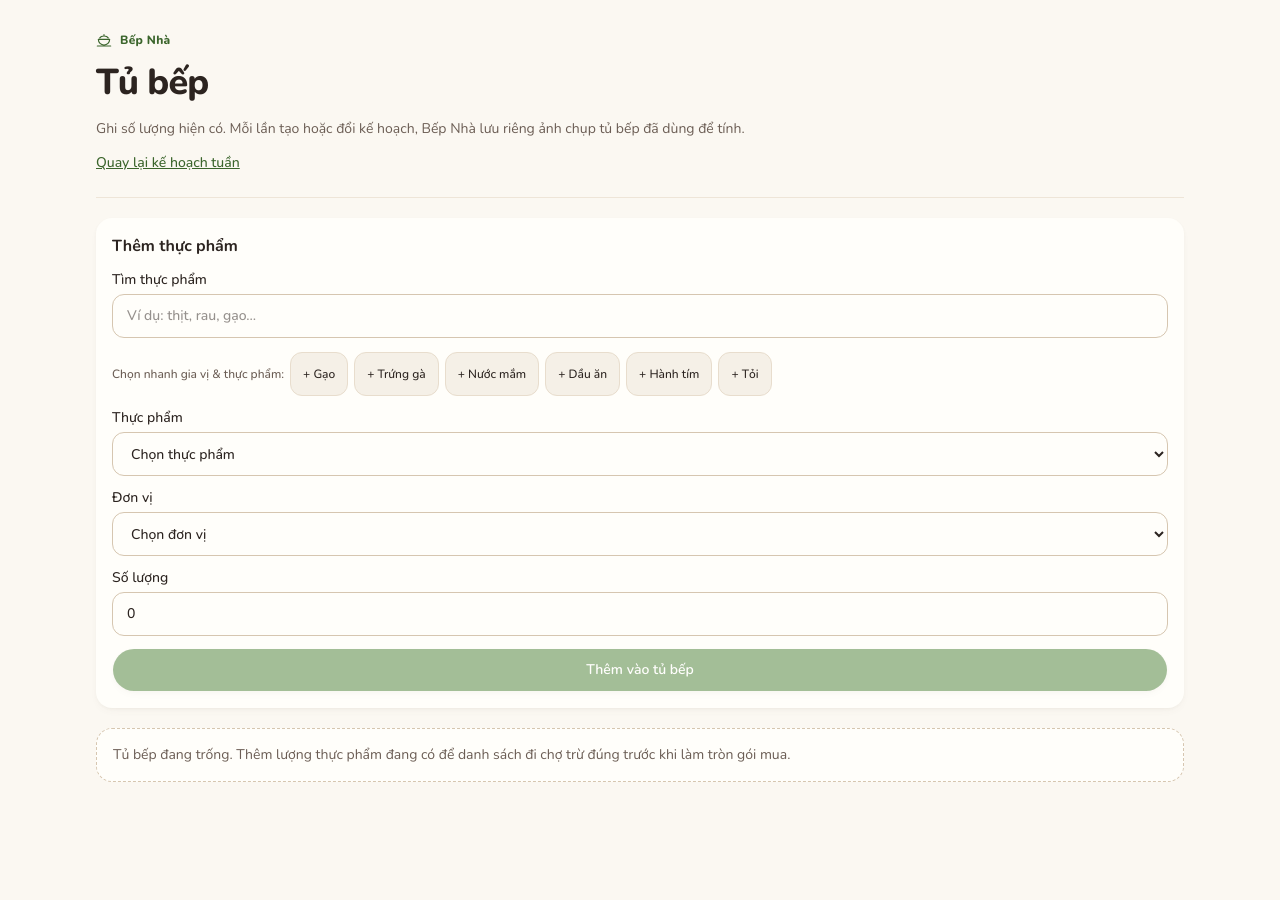
Test: PantryPage › populates the form when a quick preset button is clicked
Expected: the heading "Tủ bếp" is shown, left=96, top=58, right=208, bottom=107
Click the button "+ Gạo". click: [319, 374]
box: left=290, top=352, right=348, bottom=396
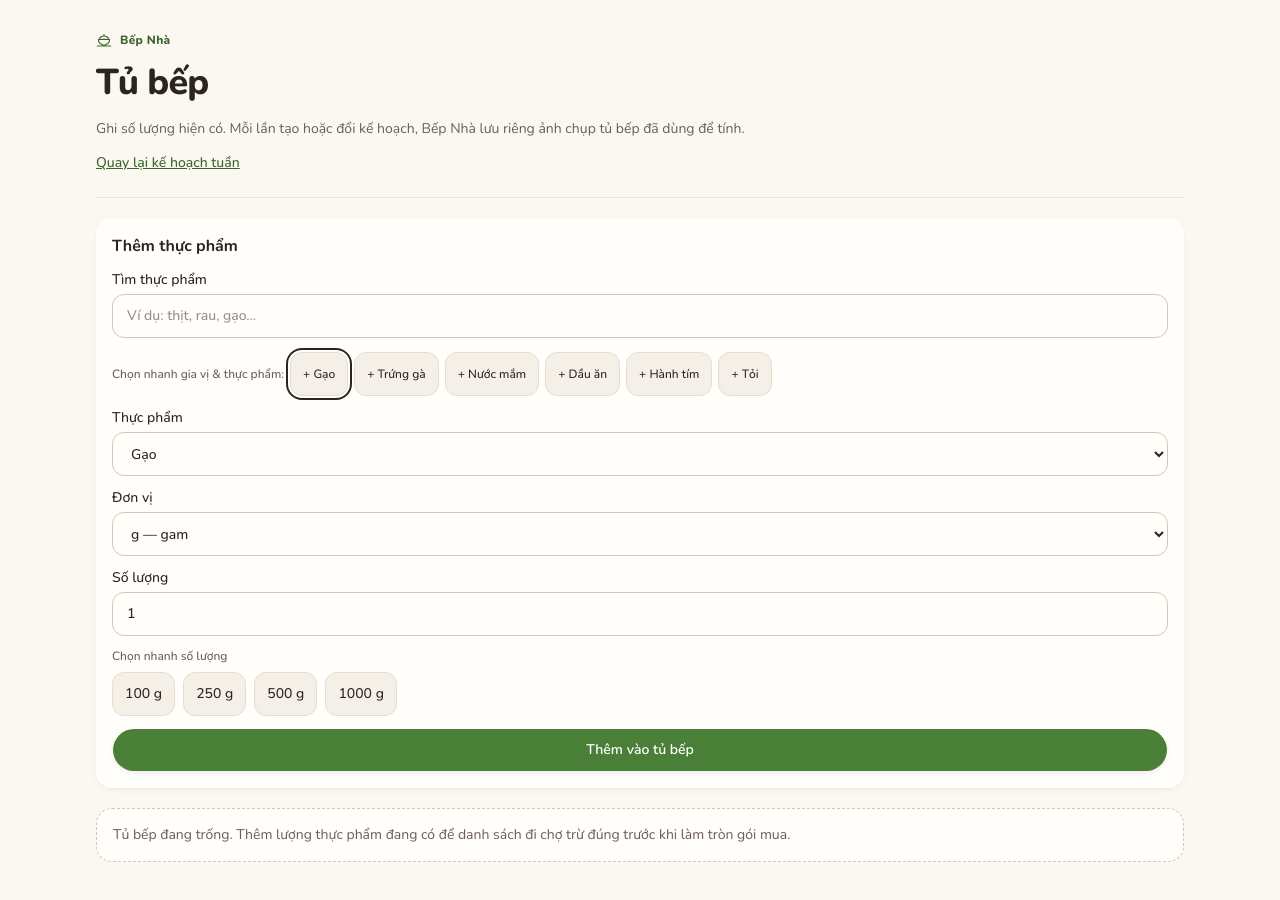
Result: the dropdown labelled "Thực phẩm" shows "Gạo" at left=112, top=432, right=1168, bottom=476
Result: the dropdown labelled "Đơn vị" shows "g — gam" at left=112, top=512, right=1168, bottom=556
Result: the number field labelled "Số lượng" holds "1" at left=112, top=592, right=1168, bottom=636
